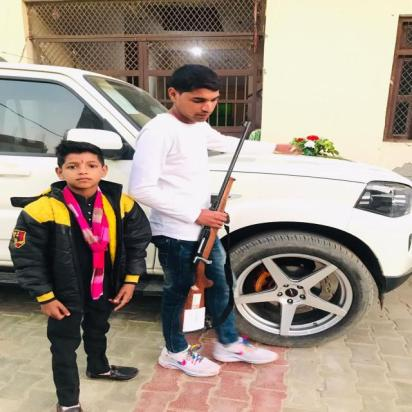Gun: (176, 120, 252, 337)
